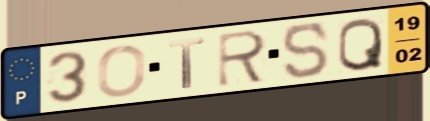3: (44, 49, 90, 106)
O: (95, 43, 148, 99)
Q: (335, 15, 385, 73)
R: (215, 27, 270, 89)
S: (280, 20, 332, 81)
T: (166, 36, 208, 90)
